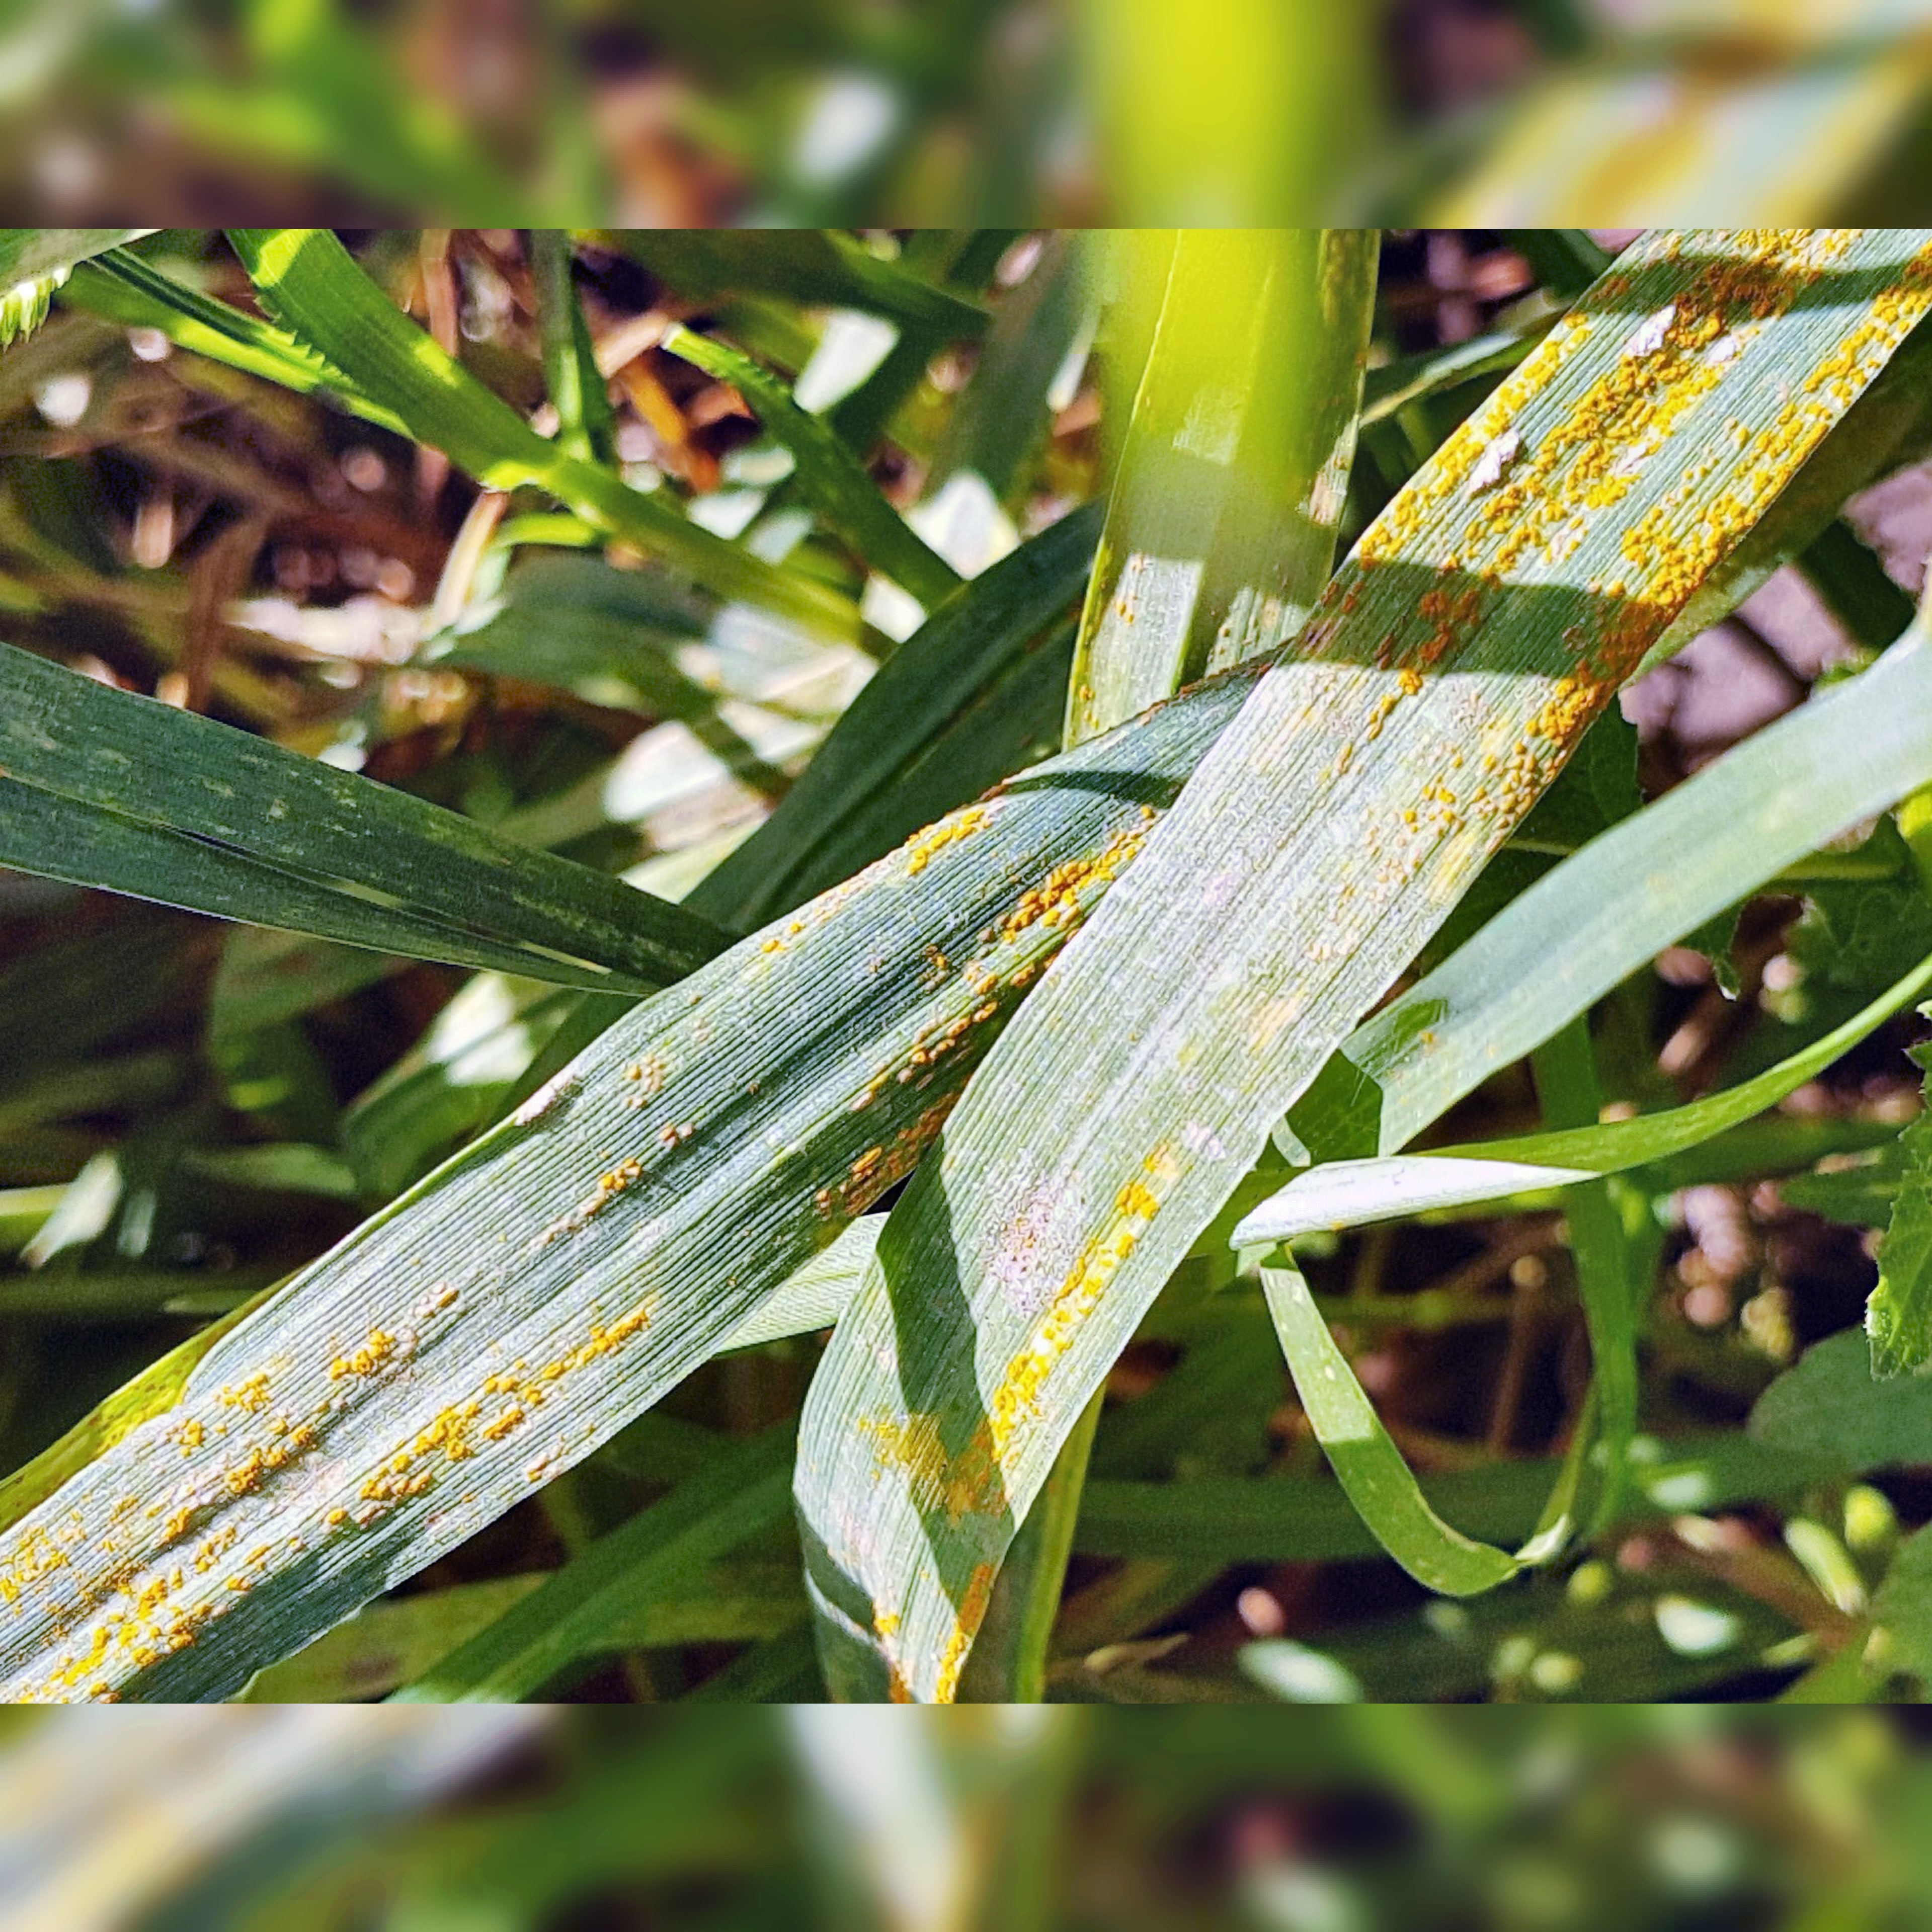Leaf Rust: (1267, 225, 1898, 844), (35, 1175, 731, 1679)
